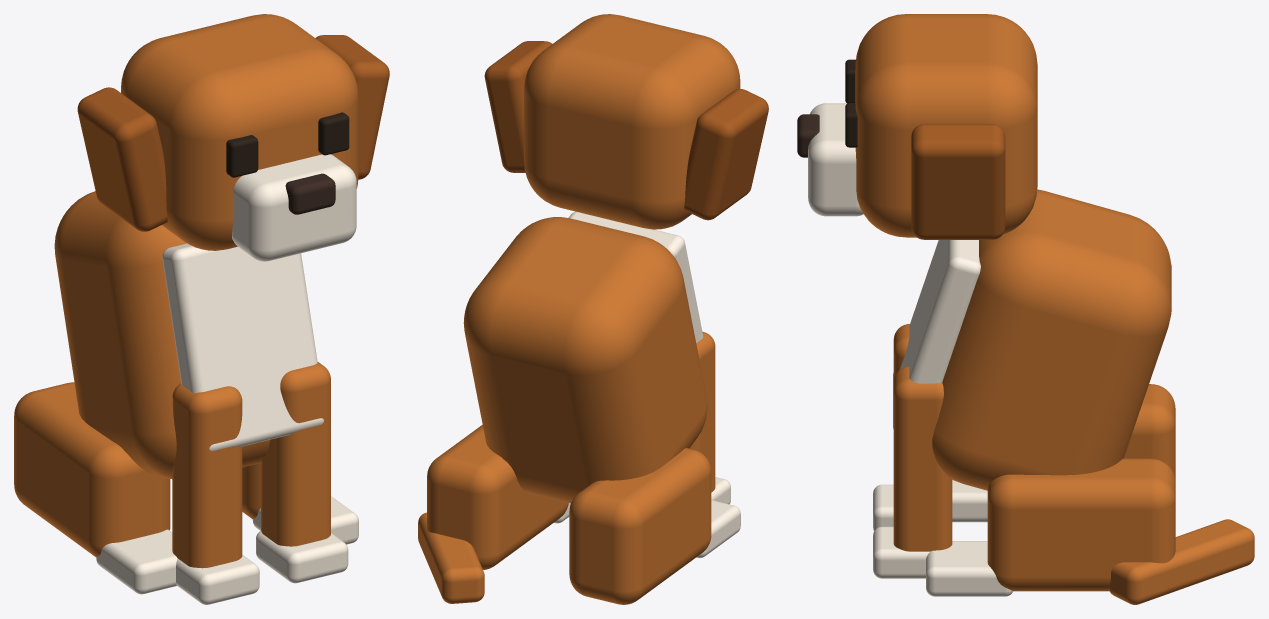
Rendered from base-dog-sitting-full.glb.
3 renders of one model, left to right at view 1: azimuth 30°, elevation 25°; view 2: azimuth 150°, elevation 25°; view 3: azimuth 270°, elevation 25°, orthographic. The views are drawn at different scales.
Visible parts, largest first — view 1: PM_FUR_MAIN_0_158_30, PM_FUR_MAIN_0_74_-4, PM_FUR_SECONDARY_0_84_33, PM_FUR_MAIN_-30_22_-16, PM_FUR_MAIN_-17_38_38, PM_FUR_MAIN_17_38_38, PM_FUR_SECONDARY_0_145_66, PM_EARS_-41_156_26, PM_EARS_41_156_26, PM_FUR_SECONDARY_-30_6_22, PM_FUR_SECONDARY_17_6_42, PM_FUR_SECONDARY_-17_6_42 (+5 smaller); view 2: PM_FUR_MAIN_0_74_-4, PM_FUR_MAIN_0_158_30, PM_FUR_MAIN_-30_22_-16, PM_FUR_MAIN_30_22_-16, PM_EARS_-41_156_26, PM_EARS_41_156_26, PM_TAIL_30_8_-50, PM_FUR_SECONDARY_0_84_33, PM_FUR_MAIN_-17_38_38, PM_FUR_SECONDARY_-30_6_22; view 3: PM_FUR_MAIN_0_74_-4, PM_FUR_MAIN_0_158_30, PM_FUR_MAIN_30_22_-16, PM_EARS_41_156_26, PM_FUR_MAIN_17_38_38, PM_FUR_SECONDARY_0_84_33, PM_TAIL_30_8_-50, PM_FUR_SECONDARY_0_145_66, PM_FUR_SECONDARY_30_6_22, PM_FUR_MAIN_-30_22_-16, PM_FUR_SECONDARY_17_6_42, PM_FUR_SECONDARY_-30_6_22 (+3 smaller).
Part boxes in pixels (left/top/right/bottom): PM_FUR_MAIN_0_158_30: left=121, top=14, right=358, bottom=250; PM_FUR_MAIN_0_74_-4: left=54, top=191, right=270, bottom=478; PM_FUR_SECONDARY_0_84_33: left=162, top=243, right=323, bottom=451; PM_FUR_MAIN_-30_22_-16: left=14, top=382, right=170, bottom=557; PM_FUR_MAIN_-17_38_38: left=172, top=383, right=242, bottom=568; PM_FUR_MAIN_17_38_38: left=261, top=362, right=330, bottom=546; PM_FUR_SECONDARY_0_145_66: left=232, top=154, right=356, bottom=261; PM_EARS_-41_156_26: left=77, top=87, right=167, bottom=231; PM_EARS_41_156_26: left=315, top=35, right=389, bottom=179; PM_FUR_SECONDARY_-30_6_22: left=96, top=529, right=177, bottom=594; PM_FUR_SECONDARY_17_6_42: left=256, top=531, right=348, bottom=583; PM_FUR_SECONDARY_-17_6_42: left=176, top=554, right=259, bottom=604; PM_FUR_MAIN_0_74_-4: left=463, top=217, right=707, bottom=503; PM_FUR_MAIN_0_158_30: left=524, top=14, right=740, bottom=229; PM_FUR_MAIN_-30_22_-16: left=569, top=448, right=711, bottom=604; PM_FUR_MAIN_30_22_-16: left=427, top=425, right=568, bottom=569; PM_EARS_-41_156_26: left=684, top=89, right=768, bottom=220; PM_EARS_41_156_26: left=484, top=41, right=551, bottom=172; PM_TAIL_30_8_-50: left=418, top=512, right=484, bottom=603; PM_FUR_SECONDARY_0_84_33: left=568, top=211, right=703, bottom=342; PM_FUR_MAIN_-17_38_38: left=689, top=331, right=715, bottom=492; PM_FUR_SECONDARY_-30_6_22: left=696, top=500, right=740, bottom=558; PM_FUR_MAIN_0_74_-4: left=932, top=189, right=1171, bottom=490; PM_FUR_MAIN_0_158_30: left=855, top=14, right=1037, bottom=237; PM_FUR_MAIN_30_22_-16: left=987, top=458, right=1175, bottom=591; PM_EARS_41_156_26: left=911, top=124, right=1005, bottom=239; PM_FUR_MAIN_17_38_38: left=893, top=366, right=952, bottom=551; PM_FUR_SECONDARY_0_84_33: left=893, top=240, right=980, bottom=429; PM_TAIL_30_8_-50: left=1108, top=519, right=1254, bottom=604; PM_FUR_SECONDARY_0_145_66: left=808, top=103, right=863, bottom=216; PM_FUR_SECONDARY_30_6_22: left=926, top=541, right=1012, bottom=596; PM_FUR_MAIN_-30_22_-16: left=1123, top=384, right=1175, bottom=481; PM_FUR_SECONDARY_17_6_42: left=873, top=526, right=929, bottom=578; PM_FUR_SECONDARY_-30_6_22: left=952, top=480, right=987, bottom=522.
Bounding box in the file's own units: 0.1051 × 0.19 × 0.1558.
